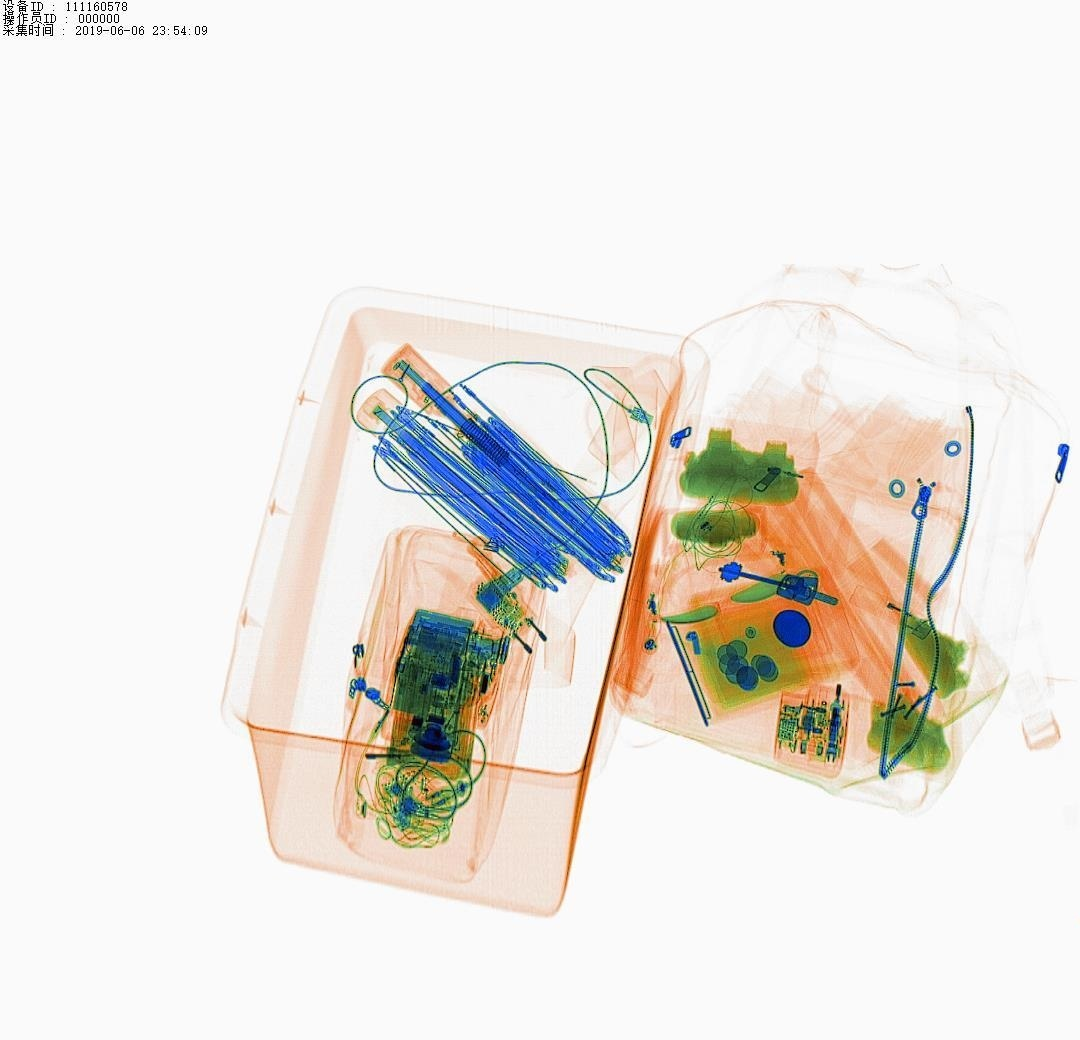NonmetallicFire: (832, 581, 963, 653)
